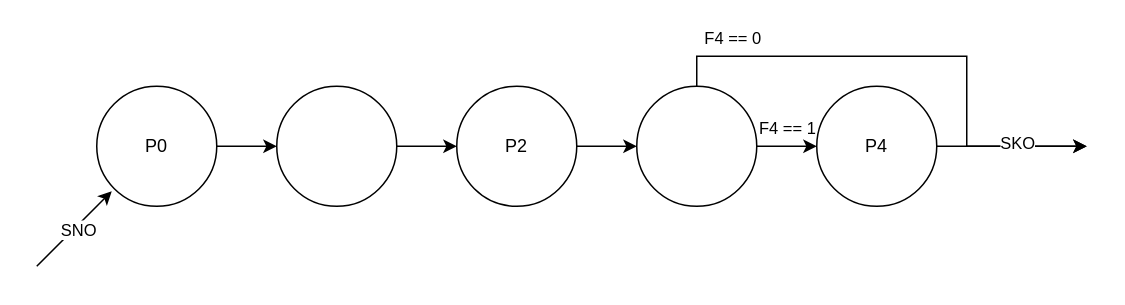
This 1125x305 diagram has some shape labels left out. The box of each missing label's shape, as (x1, y1, x2, y2) in pixels:
P3: (635, 85, 757, 206)
Р1: (275, 85, 397, 206)
